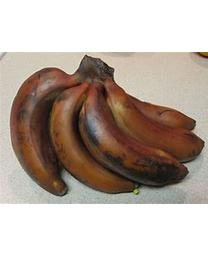banana: (9, 54, 206, 196)
